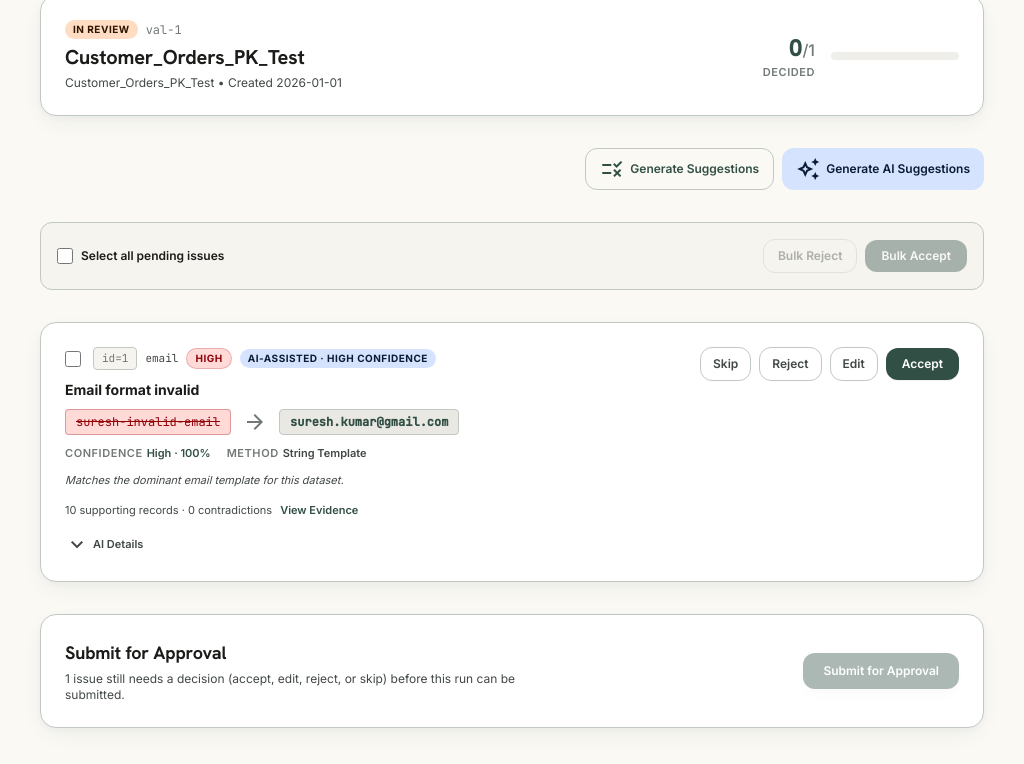
ReviewCorrectionsView — AI Details (AI Trace) › renders provider/model/prompt/tokens/latency for a successful AI trace
(page scrolled)
Click the button "AI Details".
click(104, 544)  # box [65,532,143,556]
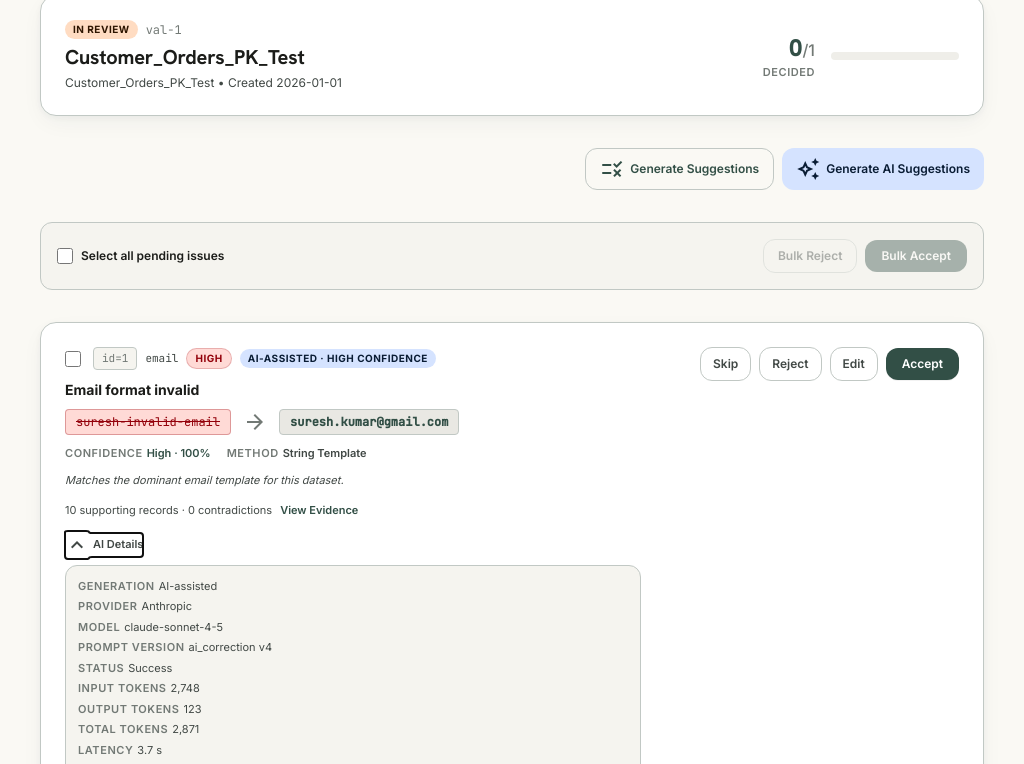
Expected: the text "Anthropic" is shown, [142,599,192,613]
Expected: the text "claude-sonnet-4-5" is shown, [124,620,223,634]
Expected: the text "ai_correction v4" is shown, [78,640,272,654]
